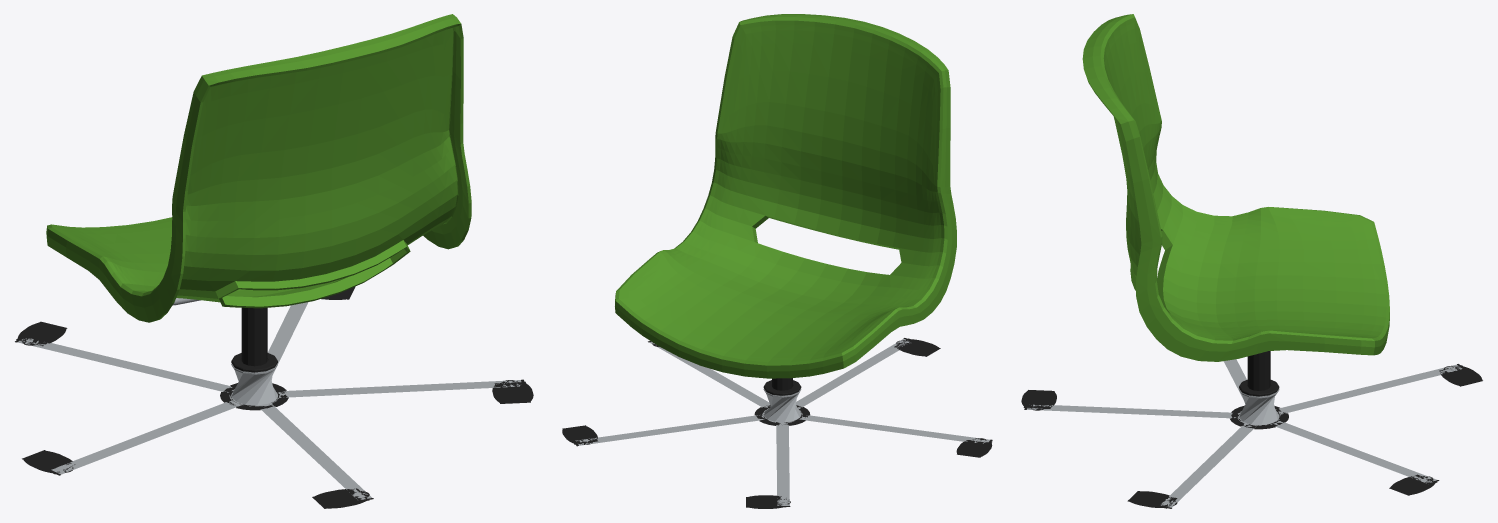
The picture shows the model from 3 angles, left to right: view 1: azimuth 30°, elevation 25°; view 2: azimuth 150°, elevation 25°; view 3: azimuth 270°, elevation 25°; orthographic projection. The views are drawn at different scales.
Visible parts, largest first — view 1: Mesh2 Group2 SNILLE_IKEA1 Model, Mesh8 Group6 SNILLE_IKEA1 Model, Mesh3 Group3 SNILLE_IKEA1 Model, Mesh7 Group5 SNILLE_IKEA1 Model, Mesh18 ROULETTE4 SNILLE_IKEA1 Model, Mesh15 ROULETTE3 SNILLE_IKEA1 Model, Mesh21 ROULETTE5 SNILLE_IKEA1 Model, Mesh1 Group1 SNILLE_IKEA1 Model; view 2: Mesh2 Group2 SNILLE_IKEA1 Model, Mesh8 Group6 SNILLE_IKEA1 Model, Mesh7 Group5 SNILLE_IKEA1 Model, Mesh3 Group3 SNILLE_IKEA1 Model; view 3: Mesh2 Group2 SNILLE_IKEA1 Model, Mesh8 Group6 SNILLE_IKEA1 Model, Mesh3 Group3 SNILLE_IKEA1 Model, Mesh7 Group5 SNILLE_IKEA1 Model.
Part boxes in pixels (left/top/right/bottom): Mesh2 Group2 SNILLE_IKEA1 Model: left=46, top=14, right=471, bottom=322; Mesh8 Group6 SNILLE_IKEA1 Model: left=15, top=302, right=524, bottom=501; Mesh3 Group3 SNILLE_IKEA1 Model: left=231, top=307, right=277, bottom=372; Mesh7 Group5 SNILLE_IKEA1 Model: left=231, top=363, right=277, bottom=405; Mesh18 ROULETTE4 SNILLE_IKEA1 Model: left=16, top=321, right=67, bottom=346; Mesh15 ROULETTE3 SNILLE_IKEA1 Model: left=312, top=488, right=369, bottom=508; Mesh21 ROULETTE5 SNILLE_IKEA1 Model: left=494, top=380, right=530, bottom=403; Mesh1 Group1 SNILLE_IKEA1 Model: left=220, top=383, right=288, bottom=410; Mesh2 Group2 SNILLE_IKEA1 Model: left=615, top=14, right=956, bottom=378; Mesh8 Group6 SNILLE_IKEA1 Model: left=573, top=338, right=992, bottom=506; Mesh7 Group5 SNILLE_IKEA1 Model: left=763, top=388, right=801, bottom=422; Mesh3 Group3 SNILLE_IKEA1 Model: left=763, top=378, right=801, bottom=395; Mesh2 Group2 SNILLE_IKEA1 Model: left=1082, top=14, right=1389, bottom=361; Mesh8 Group6 SNILLE_IKEA1 Model: left=1024, top=359, right=1465, bottom=508; Mesh3 Group3 SNILLE_IKEA1 Model: left=1239, top=351, right=1279, bottom=396; Mesh7 Group5 SNILLE_IKEA1 Model: left=1239, top=388, right=1279, bottom=424.
Bounding box in the file's own units: 0.5897 × 0.5123 × 0.5942.
